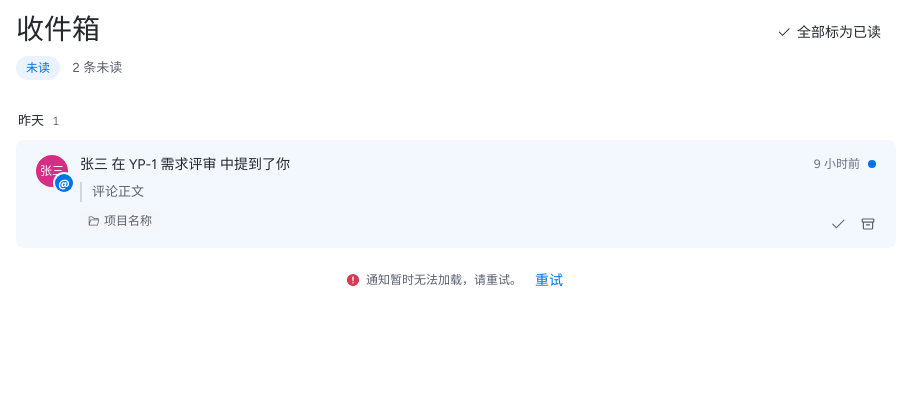
Test: inbox page › loads more at the sentinel and retries the same failed cursor without duplicating rows
The width and height of the screenshot is (913, 411).
Check: the number of elements with class "inbox-row" is 1, box [16, 140, 896, 248]
Click the button "重试".
click(549, 280)  # box [532, 260, 566, 300]
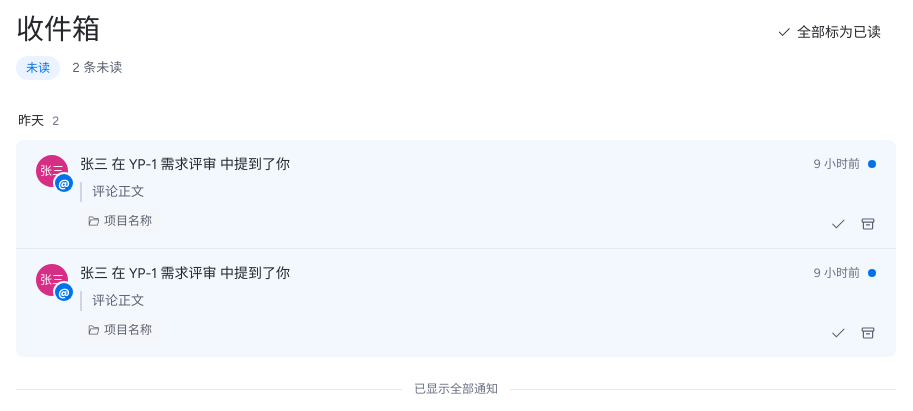
Check: the number of elements with class "inbox-row" is 2, box [16, 140, 896, 248]; [16, 248, 896, 357]
